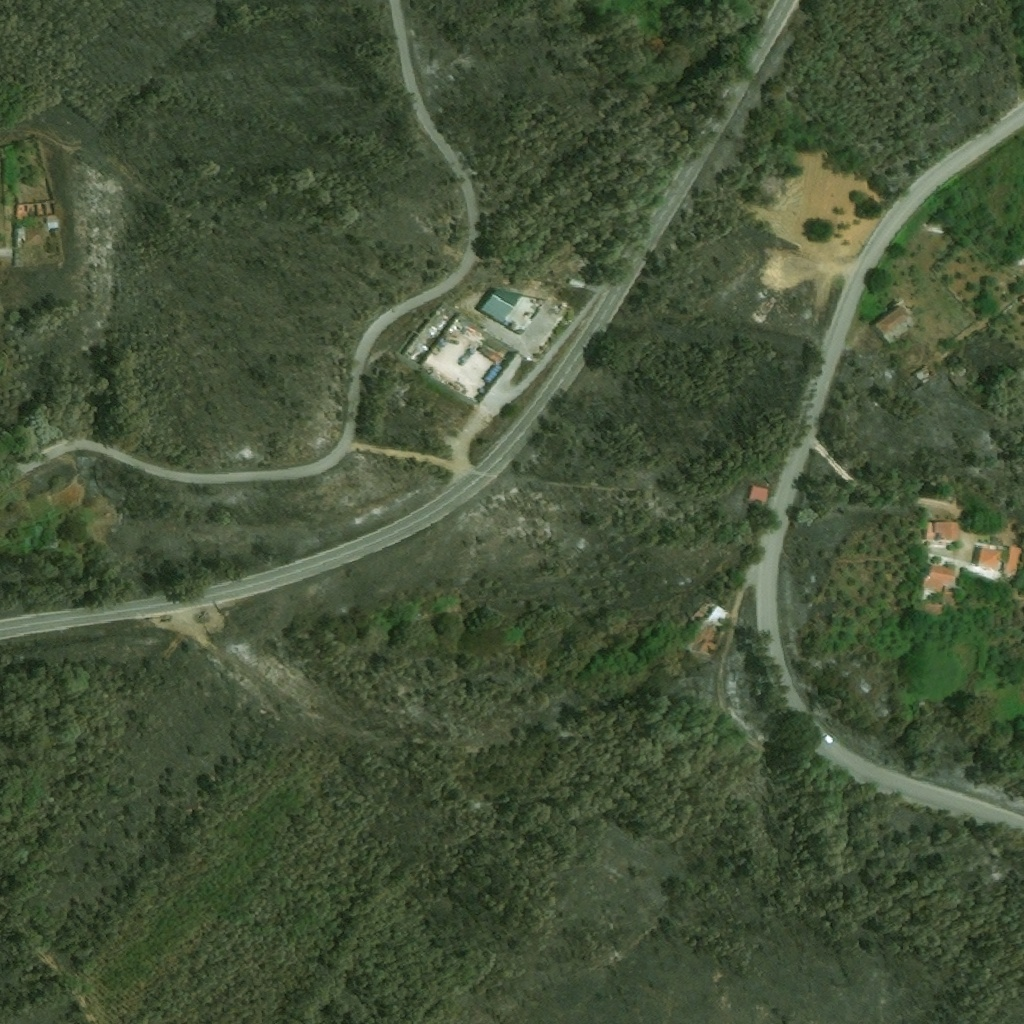0 no-damage: (479, 290, 542, 334), (872, 305, 918, 347), (973, 544, 1023, 578), (921, 562, 959, 595), (921, 520, 960, 544), (748, 483, 772, 503)
3 destroyed: (17, 201, 62, 229), (692, 602, 726, 630), (16, 226, 49, 247), (695, 640, 719, 662), (911, 365, 934, 385)
